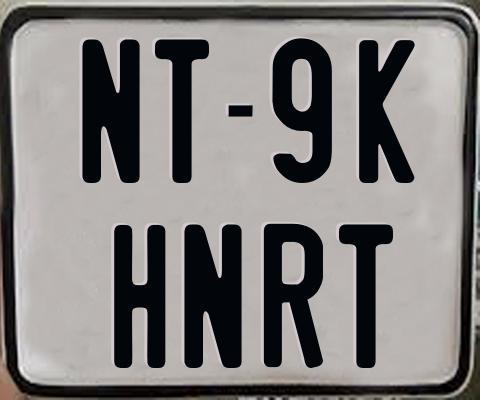9: (270, 35, 333, 185)
H: (112, 223, 166, 367)
K: (359, 39, 419, 186)
N: (184, 221, 246, 368), (81, 38, 139, 185)
R: (263, 222, 328, 370)
T: (153, 37, 210, 186), (336, 221, 393, 367)
